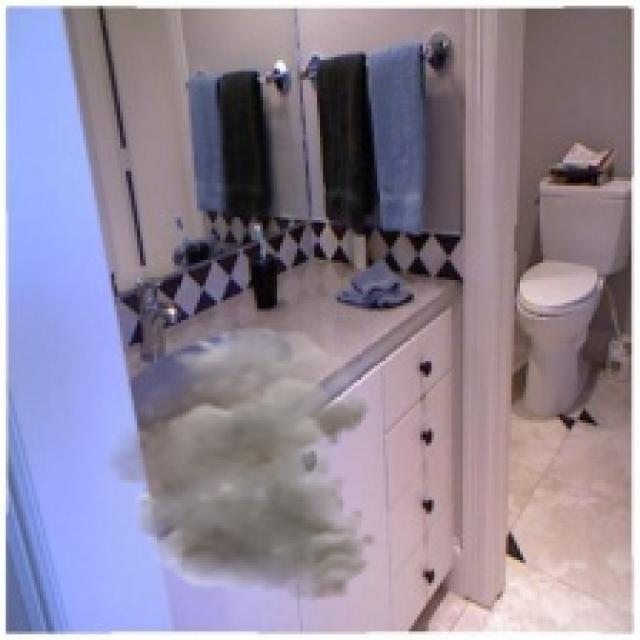Smoke: (100, 326, 377, 603)
